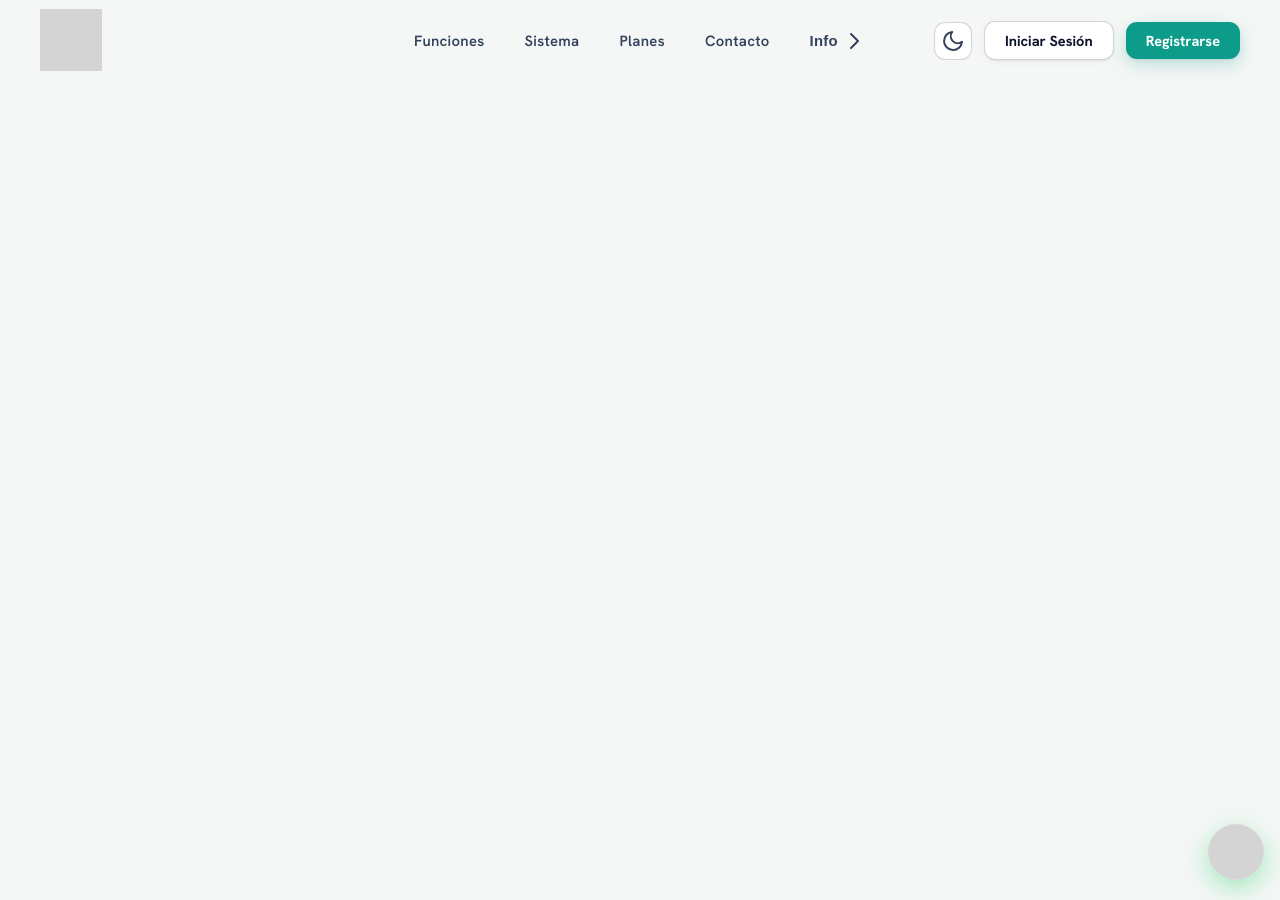
Scenario: LandingPage › shows contact modal when clicking Contacto in nav
Click the link "Contacto": (737, 40) [705,27,770,54]
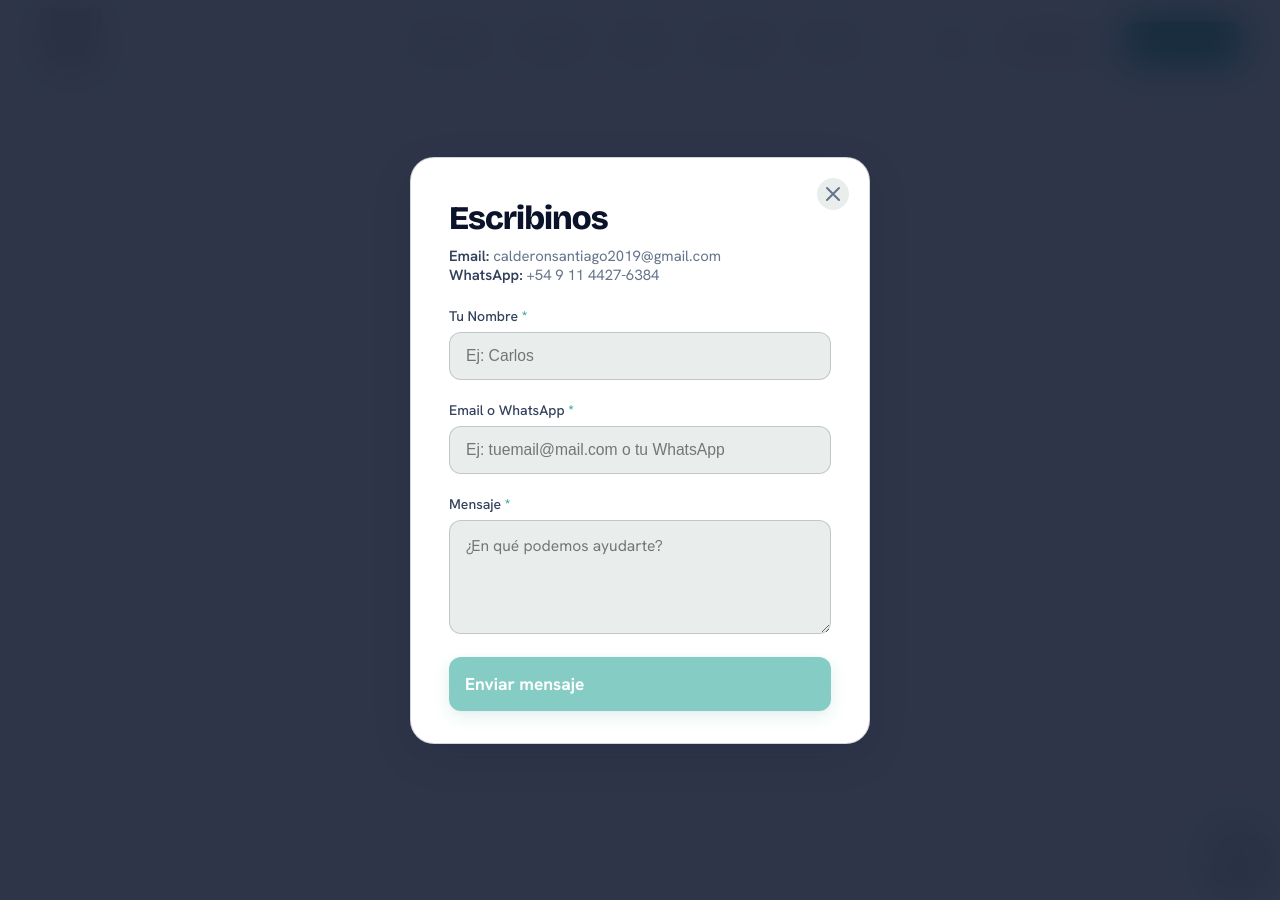
expect the heading "Escribinos" is shown: met, box [449,198,608,238]
